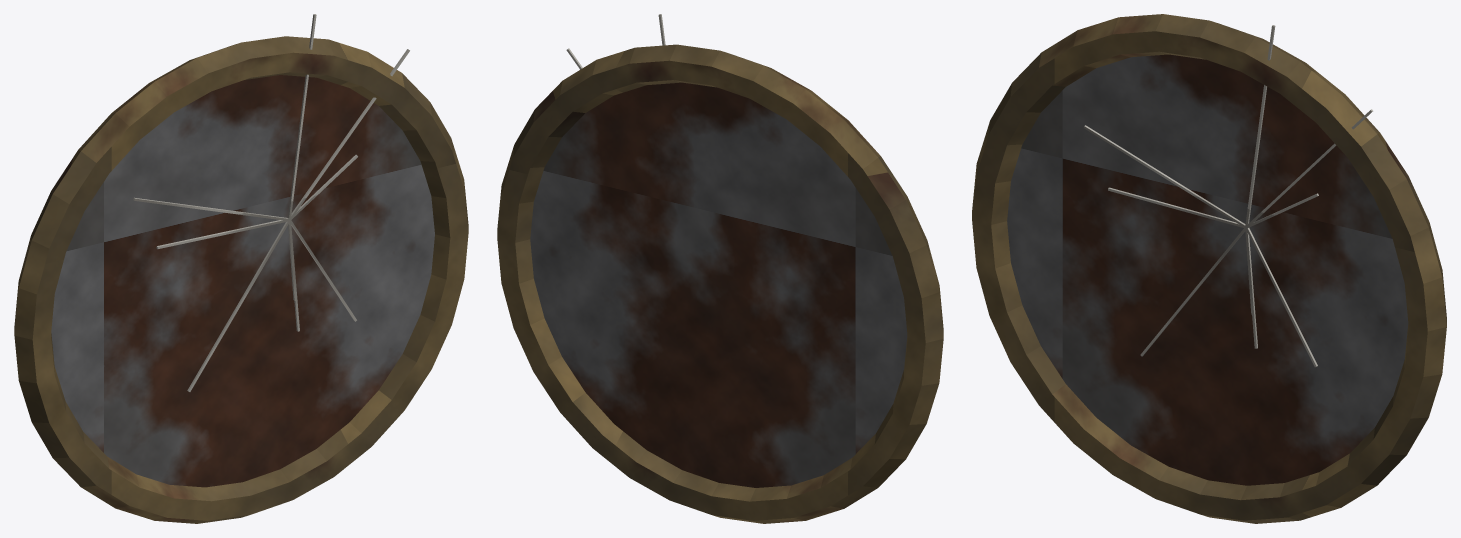
Rendered from BR08_cracked_mirror_v1.glb.
3 views of the same model, side by side, from view 1: azimuth 30°, elevation 25°; view 2: azimuth 150°, elevation 25°; view 3: azimuth 330°, elevation 25° (orthographic). The views are drawn at different scales.
Parts seen in each view (by area): view 1: BR08_cracked_mirror_v1; view 2: BR08_cracked_mirror_v1; view 3: BR08_cracked_mirror_v1.
Boxes of the visible parts, x1,y1,x2,y2 form: BR08_cracked_mirror_v1: (14,14,468,523); BR08_cracked_mirror_v1: (497,14,943,523); BR08_cracked_mirror_v1: (972,14,1446,523).
Bounding box in the file's own units: 0.9673 × 1 × 0.0674.
Materials: 3 (3 with a texture image).
